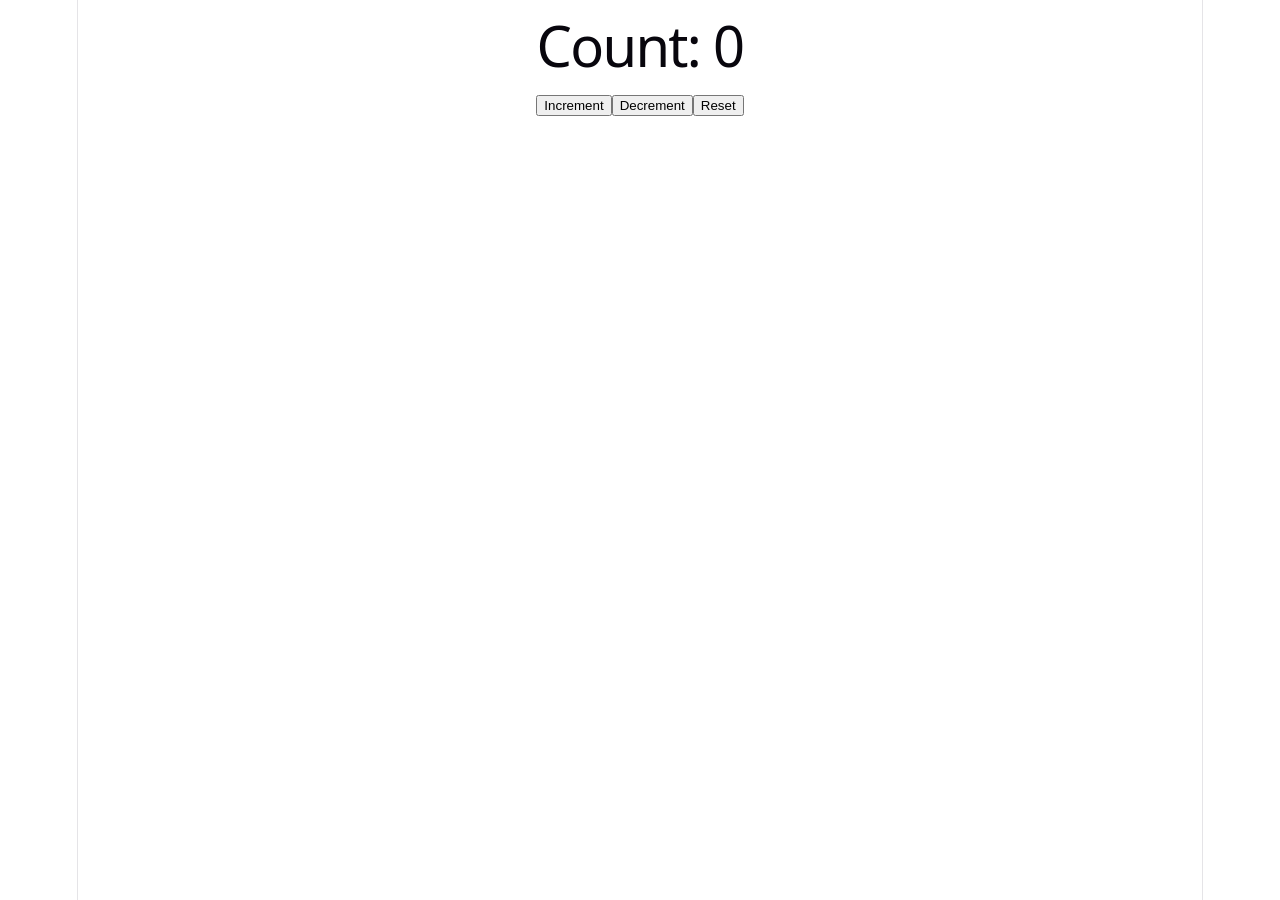
Scenario: Counter Application Tests › resets count to 0
What coordinates should you click on to do the following:
click the button "Increment"
I would click on:
 (574, 106)
Its box is [536,95,612,116].
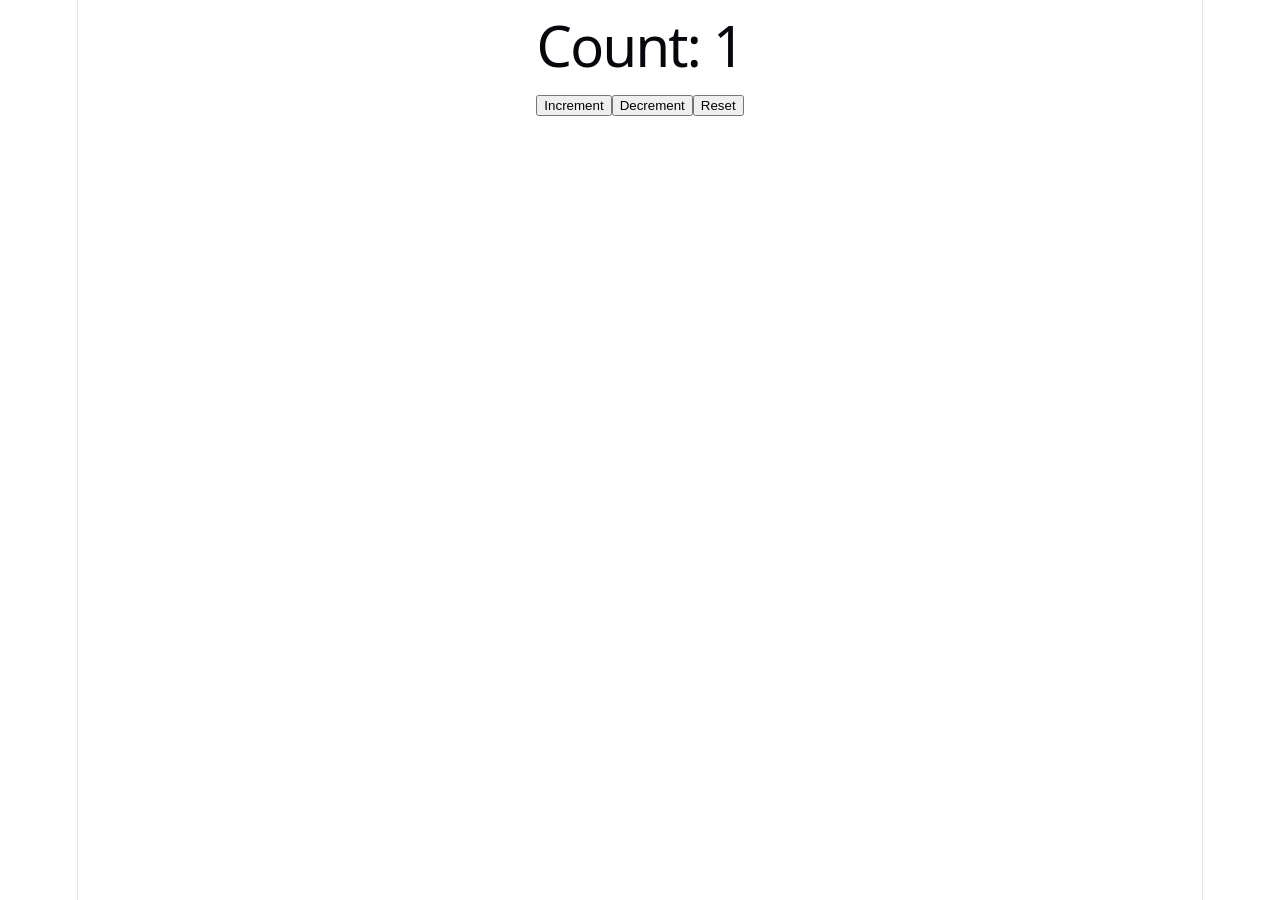
Now the heading "Count: 1" is shown, box [537,7,744,83]
What coordinates should you click on to do the following:
click the button "Reset"
I would click on:
 (718, 106)
Its box is [693,95,744,116].
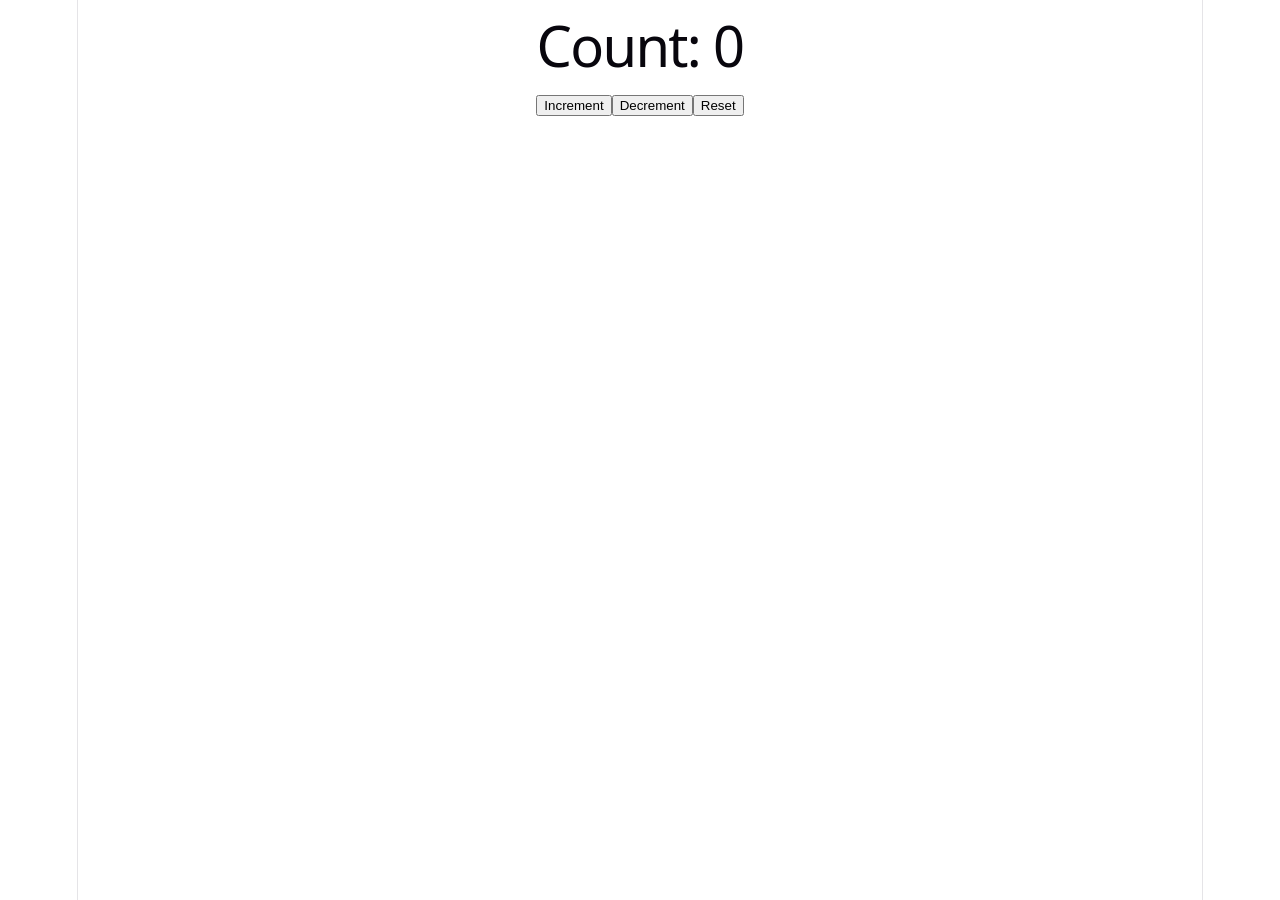
Now the heading "Count: 0" is shown, box [537,7,744,83]
